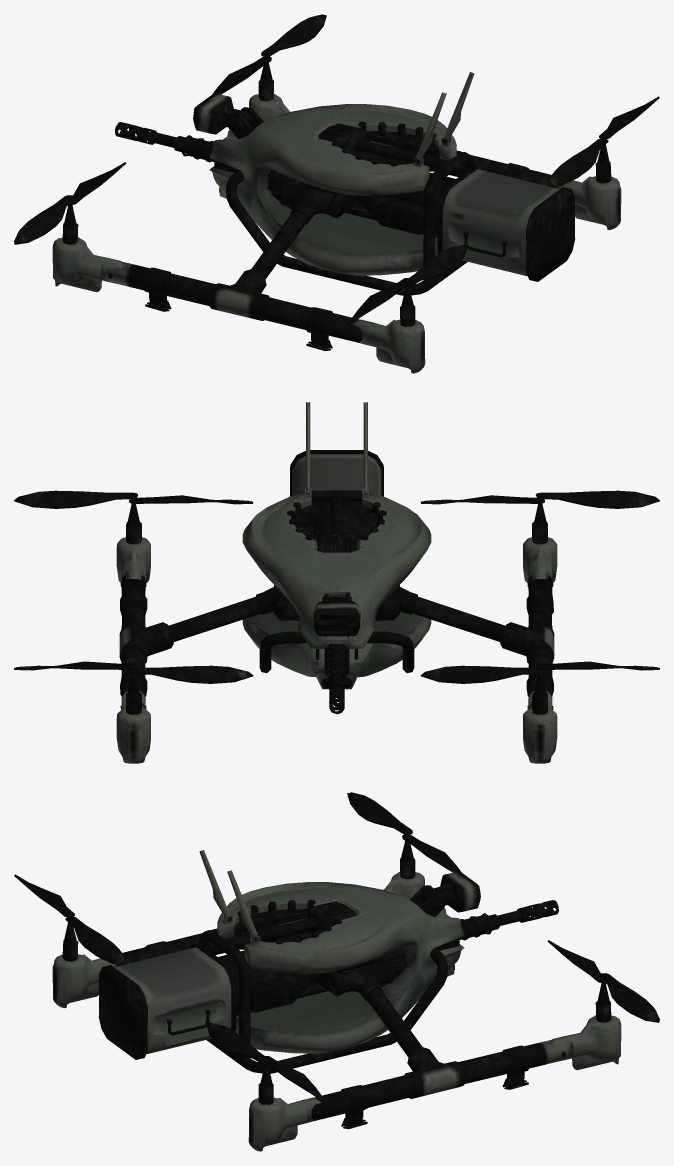
The model's file is item.drone.assault.glb.
3 views of the same model, one above another, from view 1: azimuth 30°, elevation 25°; view 2: azimuth 150°, elevation 25°; view 3: azimuth 270°, elevation 25° (orthographic). The views are drawn at different scales.
Parts seen in each view (by area): view 1: Drone; view 2: Drone; view 3: Drone.
Boxes of the visible parts, left/top/right/bottom form: Drone: left=14, top=14, right=659, bottom=373; Drone: left=14, top=402, right=659, bottom=763; Drone: left=14, top=792, right=659, bottom=1151.
Size of the model in its own units: 1.11 by 0.3393 by 0.9806.
1 material, 1 textured.
